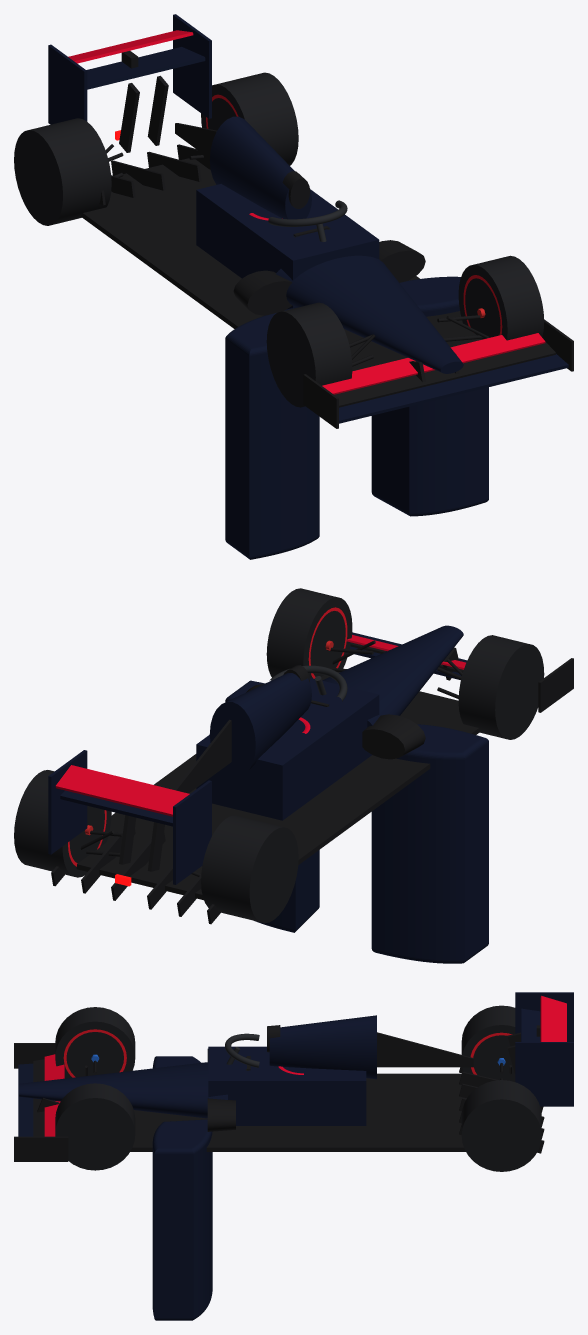
3 views of the same model, one above another, from view 1: azimuth 30°, elevation 25°; view 2: azimuth 150°, elevation 25°; view 3: azimuth 270°, elevation 25° (orthographic). The views are drawn at different scales.
Parts seen in each view (by area): view 1: body_group, wheel_rr, wheel_fr, wheel_fl, wheel_rl; view 2: body_group, wheel_rr, wheel_fr, wheel_fl, wheel_rl; view 3: body_group, wheel_rl, wheel_fl, wheel_fr, wheel_rr.
Part boxes in pixels (bbox=[...]): body_group: bbox=[48, 14, 573, 559]; wheel_rr: bbox=[14, 118, 111, 225]; wheel_fr: bbox=[266, 302, 352, 407]; wheel_fl: bbox=[458, 255, 544, 340]; wheel_rl: bbox=[201, 72, 298, 165]; body_group: bbox=[48, 625, 573, 963]; wheel_rr: bbox=[201, 815, 298, 923]; wheel_fr: bbox=[458, 635, 544, 739]; wheel_fl: bbox=[266, 588, 352, 678]; wheel_rl: bbox=[14, 770, 111, 877]; body_group: bbox=[14, 992, 573, 1320]; wheel_rl: bbox=[461, 1080, 541, 1171]; wheel_fl: bbox=[55, 1083, 135, 1170]; wheel_fr: bbox=[55, 1007, 135, 1078]; wheel_rr: bbox=[461, 1005, 515, 1081].
Size of the model in its own units: 2 by 2.52 by 4.96.
